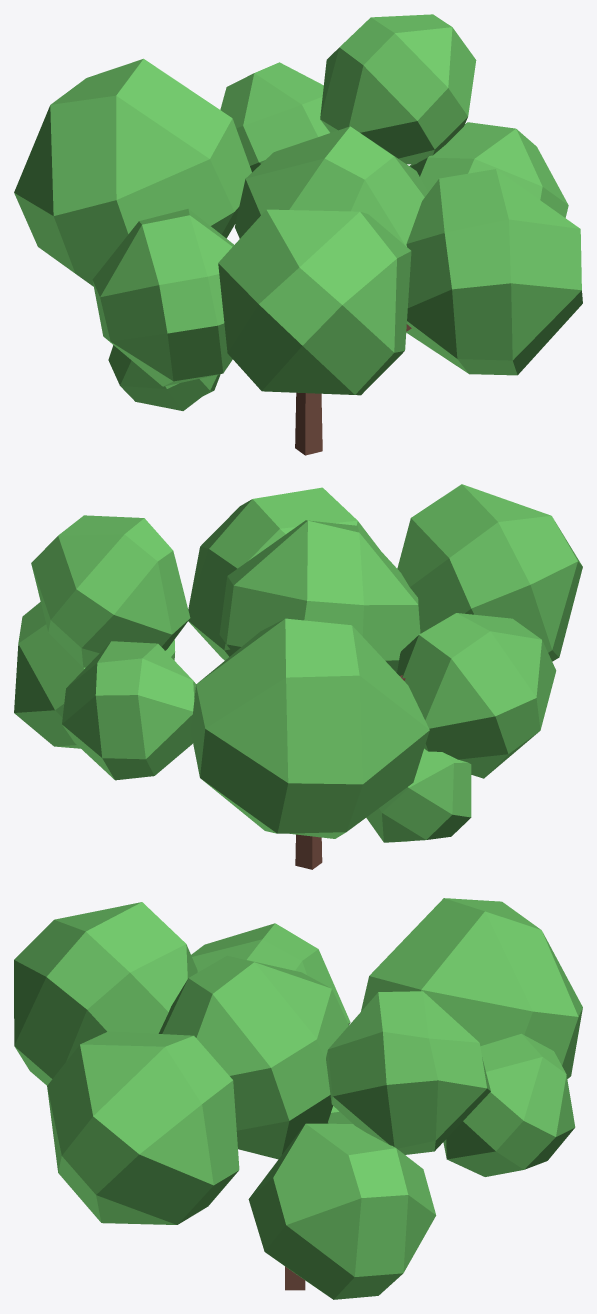
The model's file is Tree3.fbx.
3 views of the same model, one above another, from view 1: azimuth 30°, elevation 25°; view 2: azimuth 150°, elevation 25°; view 3: azimuth 270°, elevation 25° (orthographic). The views are drawn at different scales.
Parts seen in each view (by area): view 1: leafs, tree; view 2: leafs, tree; view 3: leafs.
Boxes of the visible parts, x1,y1,x2,y2 form: leafs: (14,14,582,410); tree: (295,324,411,455); leafs: (14,484,582,842); tree: (295,675,405,869); leafs: (14,898,582,1299).
Bounding box in the file's own units: 13.97 × 13.99 × 9.67.
